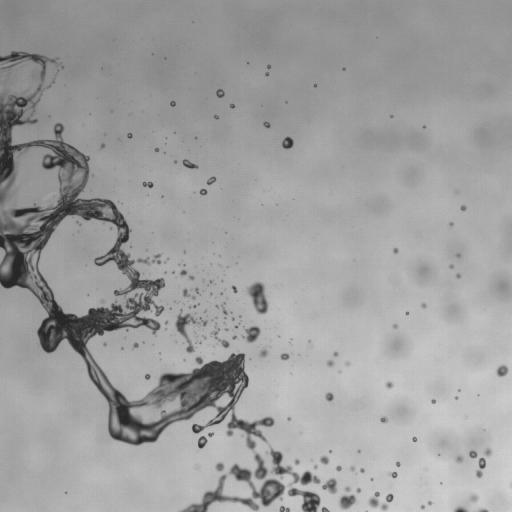droplet: (175, 310, 207, 353), (246, 282, 268, 314), (368, 491, 393, 511), (338, 486, 356, 509), (243, 326, 260, 342), (322, 478, 337, 493), (496, 365, 508, 376), (282, 137, 293, 148), (198, 436, 207, 448), (215, 462, 224, 471), (469, 493, 478, 502), (207, 176, 215, 185), (259, 349, 268, 357), (325, 392, 333, 401), (320, 456, 329, 464), (142, 182, 153, 188), (216, 89, 224, 97), (469, 450, 477, 458), (455, 455, 463, 463), (280, 353, 289, 360), (385, 381, 393, 388), (180, 269, 187, 276), (380, 416, 387, 423), (200, 189, 207, 195), (231, 286, 237, 293), (389, 472, 397, 477), (327, 360, 333, 366), (263, 122, 270, 127), (460, 205, 466, 210), (194, 288, 199, 294), (133, 342, 138, 348), (145, 373, 150, 379), (170, 101, 175, 106), (127, 133, 132, 138), (393, 248, 398, 253), (421, 303, 426, 308), (208, 432, 213, 437), (294, 459, 299, 464), (350, 466, 355, 471), (456, 273, 460, 278), (232, 335, 237, 339), (333, 352, 338, 356), (412, 437, 417, 441), (336, 466, 341, 470), (427, 501, 432, 505), (0, 80, 4, 84), (230, 104, 234, 108), (214, 115, 218, 119), (100, 144, 104, 148), (449, 222, 453, 226), (449, 264, 453, 268), (189, 275, 193, 279), (393, 324, 397, 328), (345, 361, 349, 365), (431, 399, 435, 403), (396, 462, 400, 466), (360, 468, 364, 472), (356, 488, 360, 492), (235, 324, 238, 328), (196, 340, 200, 343), (196, 465, 199, 469), (421, 505, 424, 509), (267, 65, 270, 68), (265, 72, 268, 75), (155, 148, 158, 151), (77, 222, 80, 225), (457, 254, 460, 257), (165, 258, 168, 261), (314, 465, 317, 468), (405, 312, 408, 314), (165, 321, 167, 324), (103, 343, 106, 345), (455, 396, 457, 399), (288, 417, 290, 420), (357, 450, 360, 452), (370, 478, 373, 480), (423, 126, 425, 128), (216, 305, 218, 307), (225, 328, 227, 330), (203, 336, 205, 338)
ligament: (0, 56, 329, 511), (476, 448, 492, 478), (211, 325, 229, 347), (182, 159, 197, 168), (182, 289, 194, 299), (220, 302, 227, 314), (453, 506, 468, 511), (47, 79, 54, 88), (279, 506, 290, 511), (475, 508, 488, 511), (190, 304, 197, 308), (510, 483, 511, 486)
